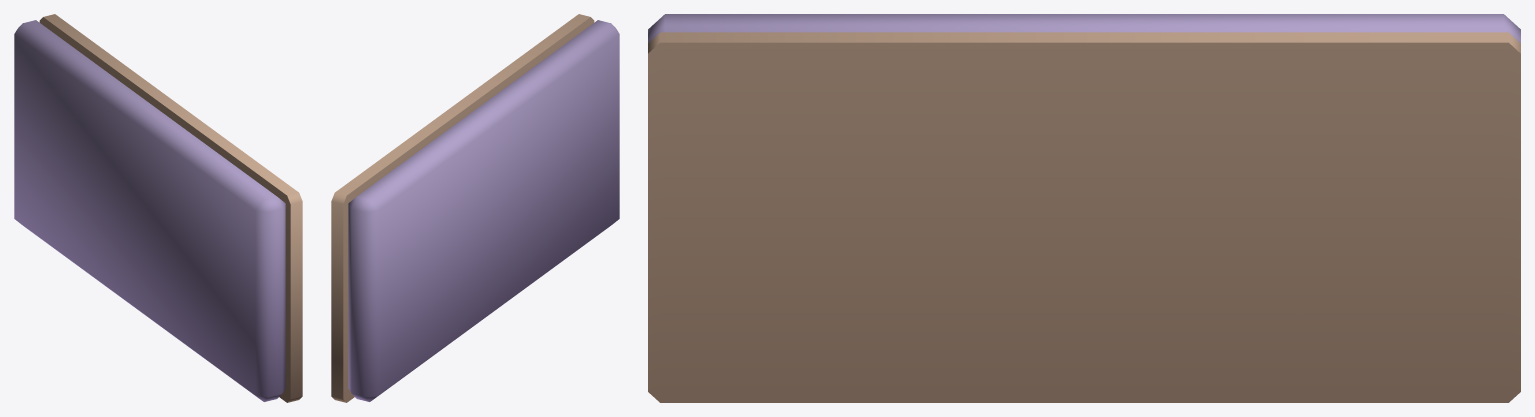
The model's file is bed-backboard-padding.glb.
3 views of the same model, side by side, from view 1: azimuth 30°, elevation 25°; view 2: azimuth 150°, elevation 25°; view 3: azimuth 270°, elevation 25° (orthographic). The views are drawn at different scales.
Visible parts, largest first — view 1: bed-backboard-padding; view 2: bed-backboard-padding; view 3: bed-backboard-padding.
Boxes of the visible parts, box(x1,y1,x2,y2) form: bed-backboard-padding: box(14, 14, 302, 402); bed-backboard-padding: box(331, 14, 619, 402); bed-backboard-padding: box(648, 14, 1520, 402).
Size of the model in its own units: 0.175 by 0.82 by 1.8.
